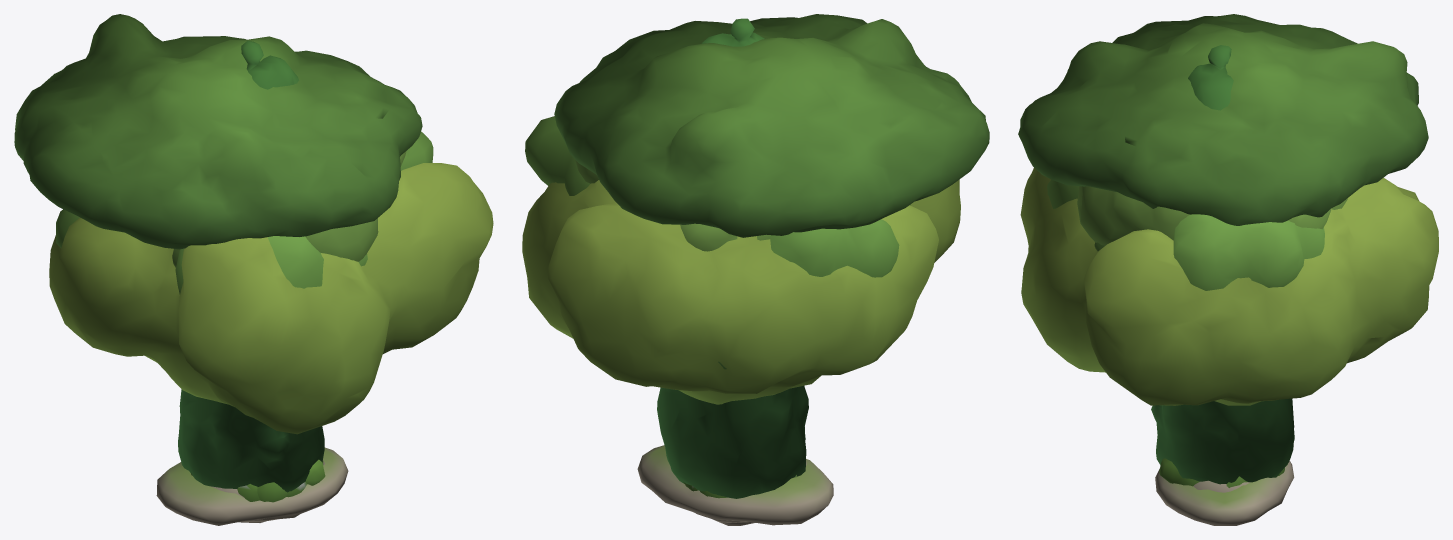
File: vegetation.glb
The picture shows the model from 3 angles, left to right: view 1: azimuth 30°, elevation 25°; view 2: azimuth 150°, elevation 25°; view 3: azimuth 270°, elevation 25°; orthographic projection. The views are drawn at different scales.
Parts seen in each view (by area): view 1: pine_lod0, broadleaf_c_lod0, cypress_lod0, rock_b_lod0, broadleaf_a_lod0, broadleaf_b_lod0, bush_lod0; view 2: pine_lod0, broadleaf_c_lod0, cypress_lod0, broadleaf_a_lod0, rock_b_lod0, broadleaf_b_lod0; view 3: pine_lod0, broadleaf_c_lod0, cypress_lod0, broadleaf_a_lod0, rock_b_lod0, broadleaf_b_lod0, bush_lod0.
Boxes of the visible parts, bbox=[...] form: pine_lod0: bbox=[14, 14, 422, 249]; broadleaf_c_lod0: bbox=[49, 163, 493, 434]; cypress_lod0: bbox=[178, 40, 324, 492]; rock_b_lod0: bbox=[156, 447, 348, 525]; broadleaf_a_lod0: bbox=[56, 131, 433, 294]; broadleaf_b_lod0: bbox=[172, 151, 406, 267]; bush_lod0: bbox=[257, 459, 325, 502]; pine_lod0: bbox=[554, 14, 989, 237]; broadleaf_c_lod0: bbox=[522, 179, 960, 404]; cypress_lod0: bbox=[657, 18, 808, 498]; broadleaf_a_lod0: bbox=[525, 116, 910, 369]; rock_b_lod0: bbox=[637, 445, 833, 525]; broadleaf_b_lod0: bbox=[575, 159, 770, 251]; pine_lod0: bbox=[1018, 14, 1428, 225]; broadleaf_c_lod0: bbox=[1020, 167, 1438, 405]; cypress_lod0: bbox=[1151, 45, 1294, 484]; broadleaf_a_lod0: bbox=[1047, 179, 1324, 290]; rock_b_lod0: bbox=[1155, 460, 1294, 525]; broadleaf_b_lod0: bbox=[1077, 186, 1347, 245]; bush_lod0: bbox=[1159, 458, 1287, 487].
Size of what is drawn, in the model's own units: 14.85 by 16.42 by 13.78.
